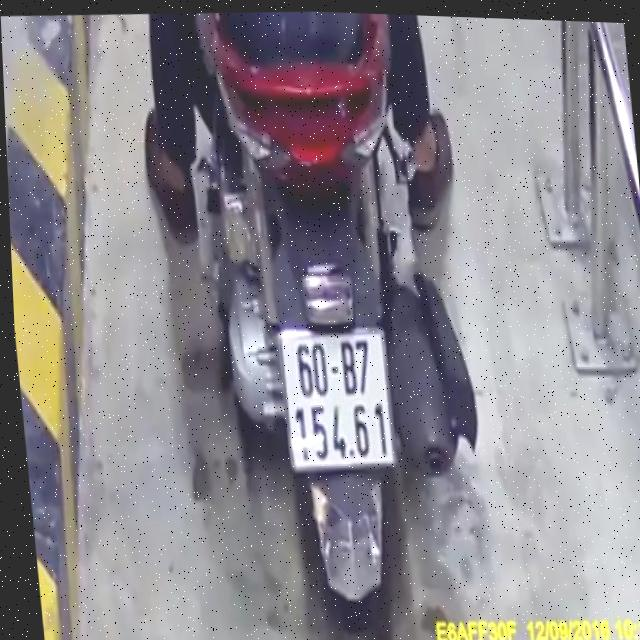motorcycle: (183, 7, 486, 640)
plate: (272, 324, 402, 476)
